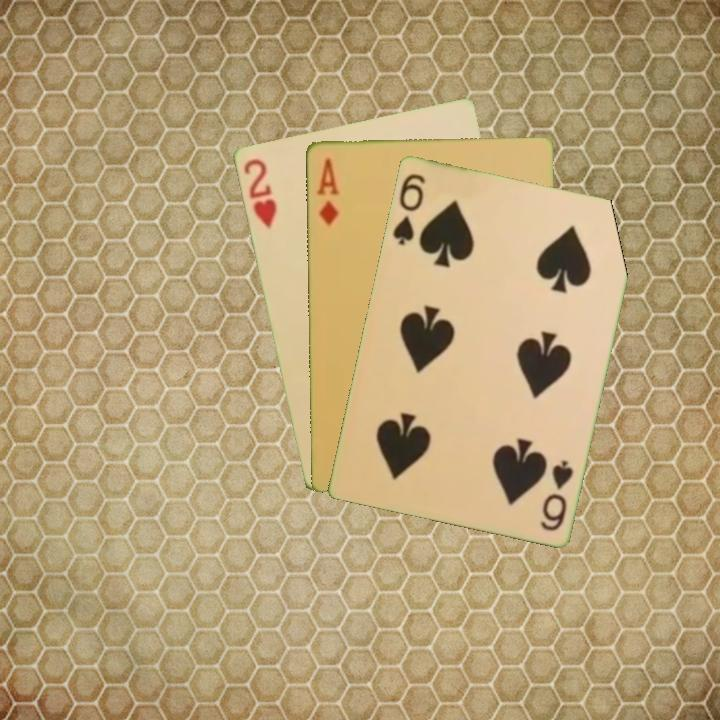2h: (239, 154, 279, 232)
6s: (389, 169, 428, 248), (537, 456, 576, 534)
Ad: (313, 154, 342, 228)
